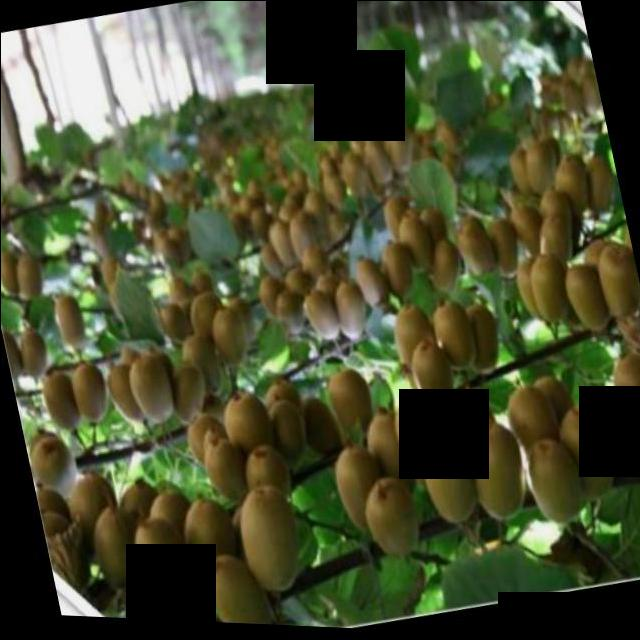kiwi: (236, 484, 310, 604), (465, 421, 539, 533), (518, 432, 593, 534), (556, 402, 625, 509), (132, 522, 201, 624), (391, 397, 454, 506), (180, 499, 248, 598), (65, 474, 131, 576), (419, 437, 484, 537), (202, 553, 285, 629), (331, 452, 391, 550), (361, 477, 425, 568), (88, 508, 148, 603), (221, 394, 279, 483), (527, 251, 582, 334), (430, 298, 484, 379), (388, 308, 440, 390), (409, 339, 464, 416), (564, 259, 616, 337), (329, 370, 381, 448), (244, 447, 298, 521), (458, 304, 508, 383), (197, 435, 251, 506), (128, 363, 181, 435), (595, 241, 640, 324), (298, 399, 346, 474), (455, 219, 503, 289), (608, 348, 640, 450), (39, 373, 86, 439), (269, 404, 313, 473), (72, 370, 117, 436), (334, 286, 375, 350), (379, 245, 421, 306), (304, 292, 345, 351), (214, 314, 253, 375), (54, 305, 91, 361), (430, 242, 465, 294)
